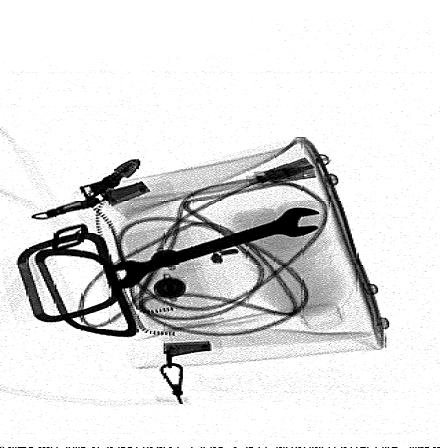Wrench: (109, 207, 323, 289)
